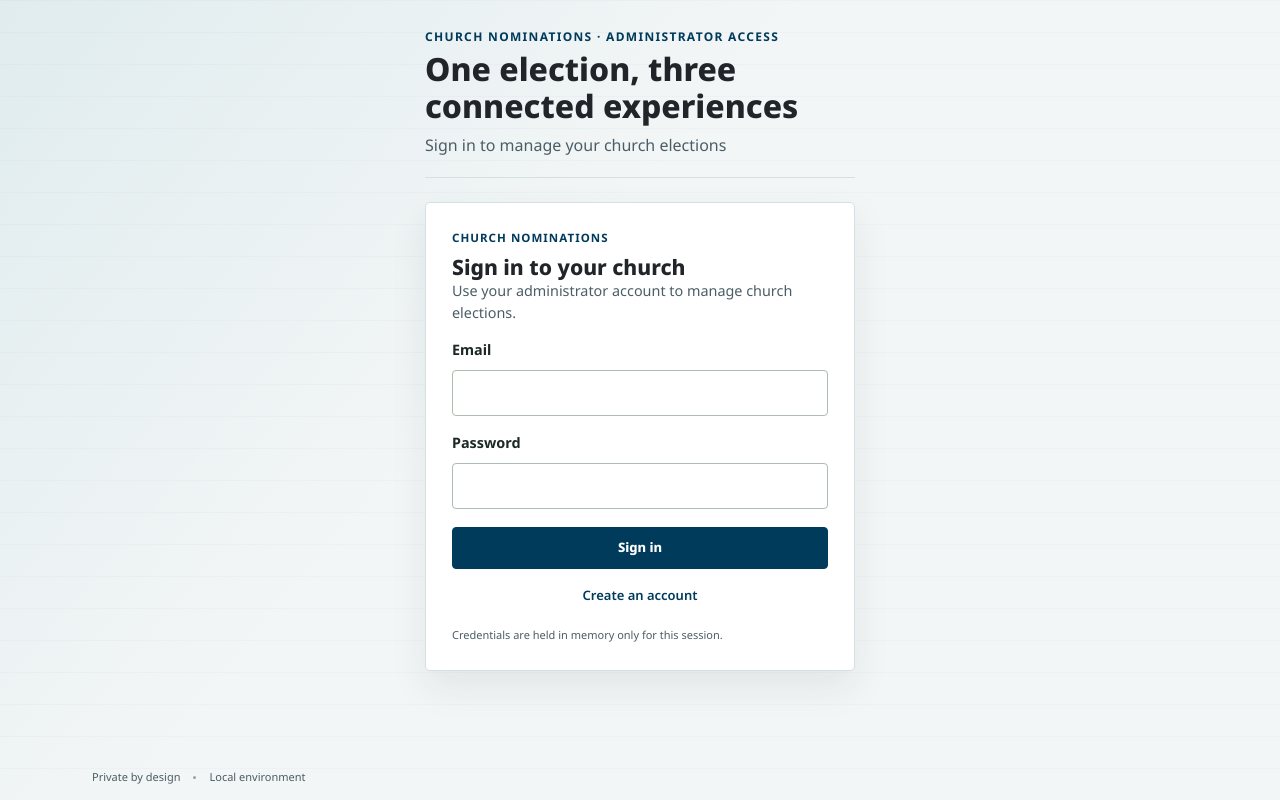
Test case: election administration › opens the selected position from its overview next action
The image size is (1280, 800).
Type "admin@example.com" into the field labelled "Email" at (640, 393), box 452,370 -> 828,416
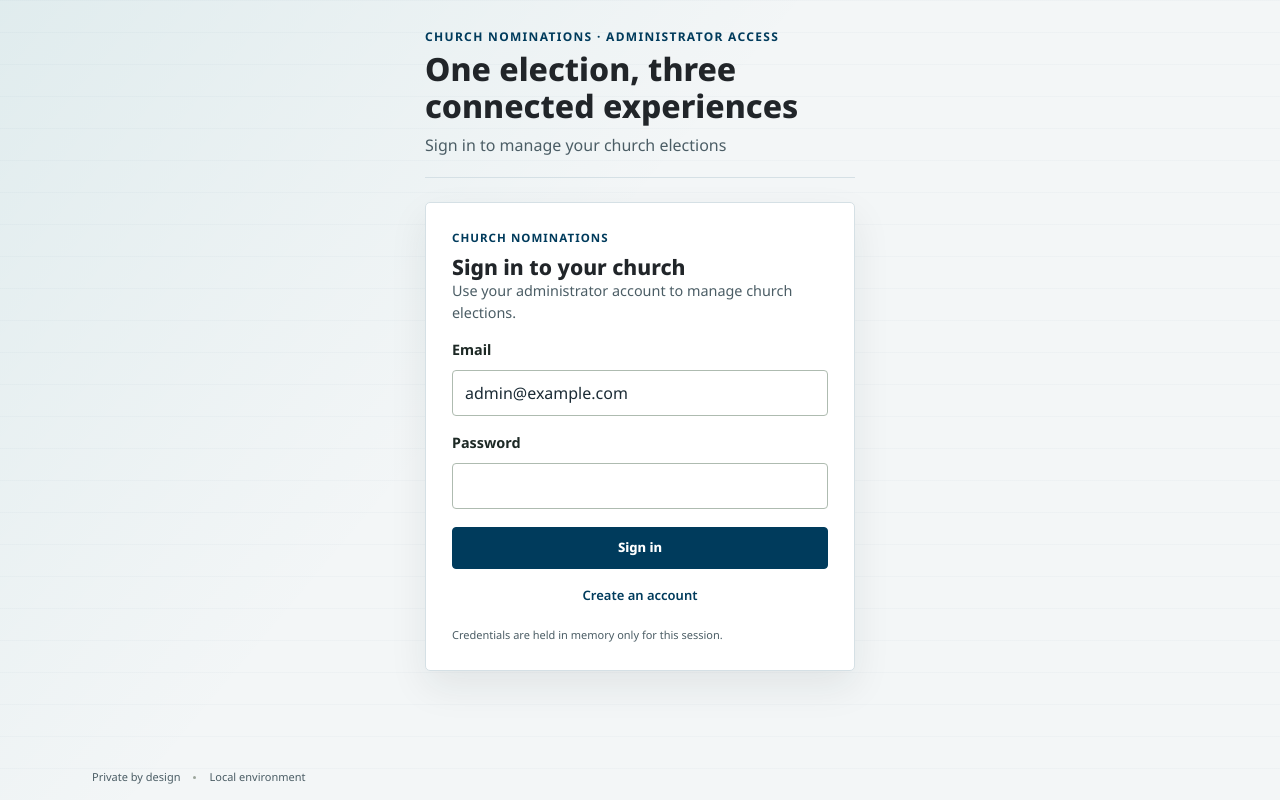
Type "secret" into the password field labelled "Password" at (640, 486), box 452,463 -> 828,509
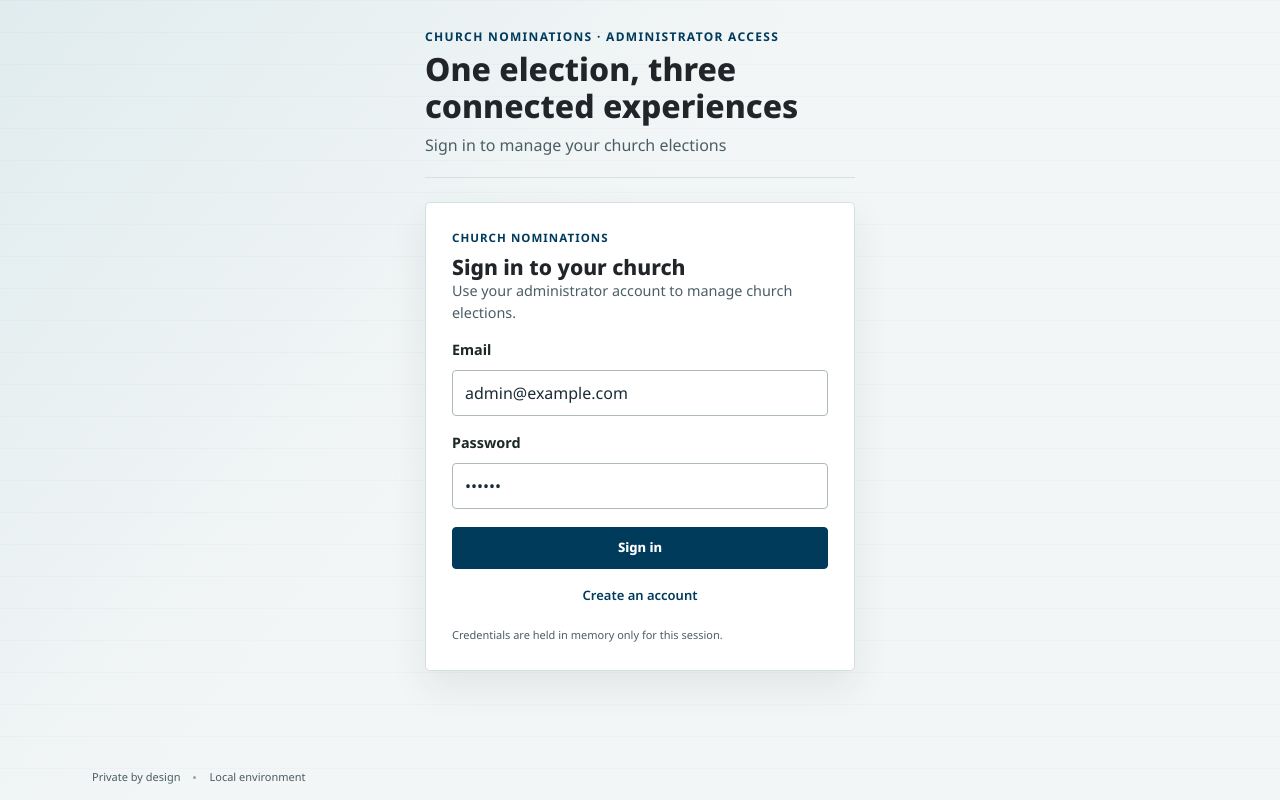
Click the button "Sign in" at (640, 548), box 452,527 -> 828,569
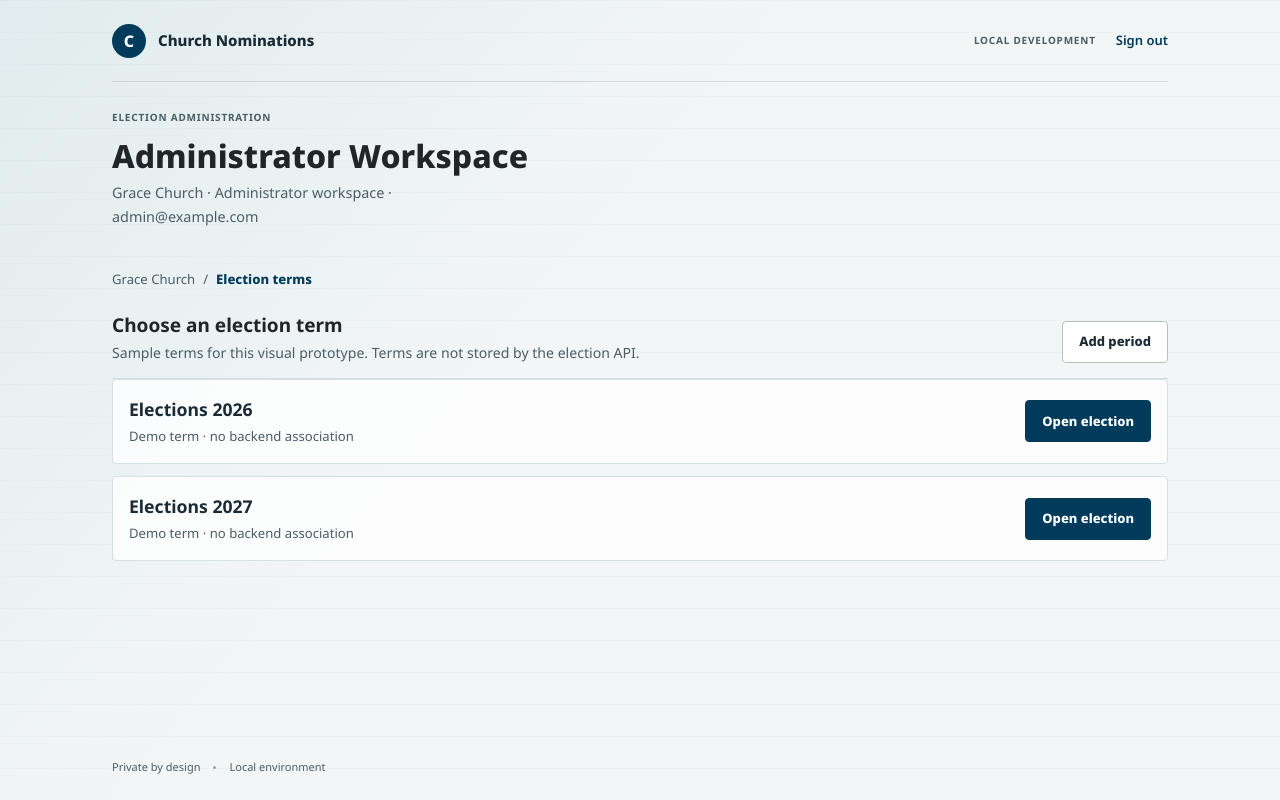
Click the button "Open election" in the row of "Elections 2026" at (1088, 422), box 1025,400 -> 1151,442
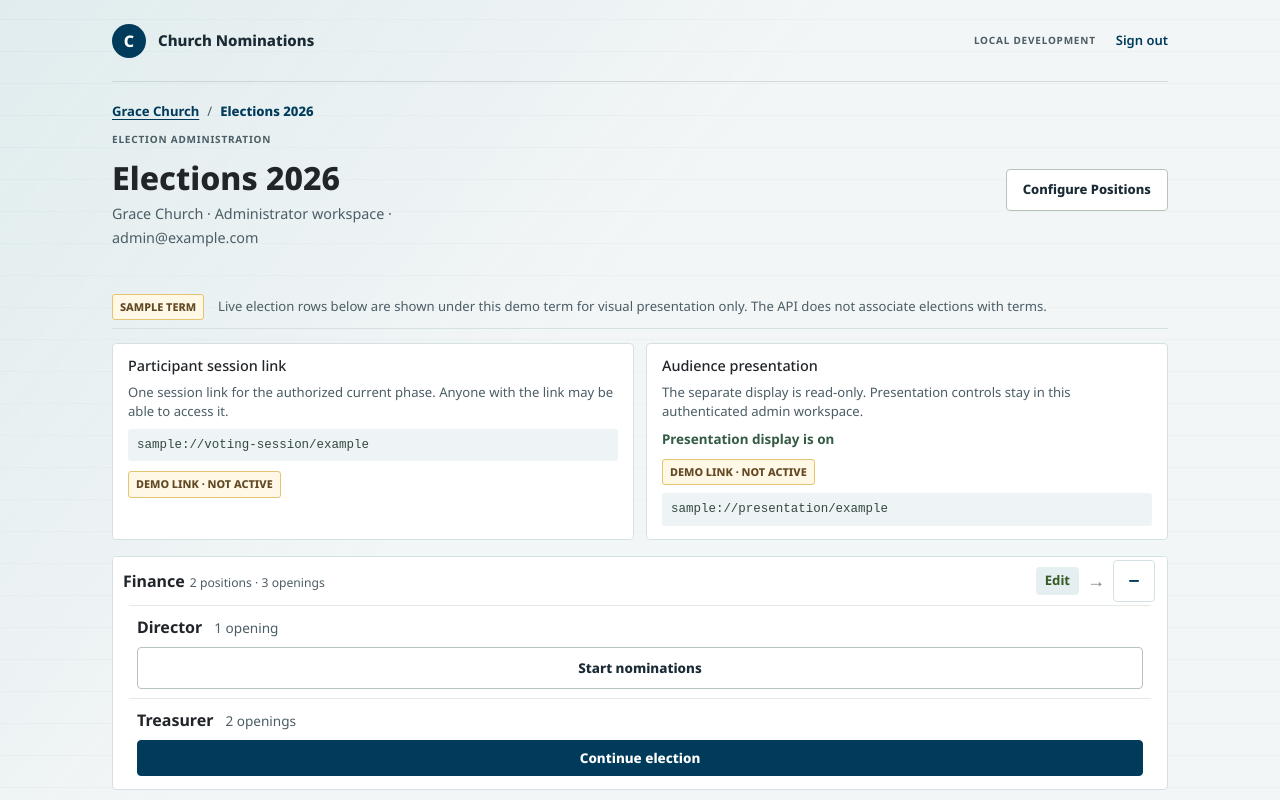
Click the button with aria-label "Continue election: Treasurer" at (640, 758), box 137,740 -> 1143,776
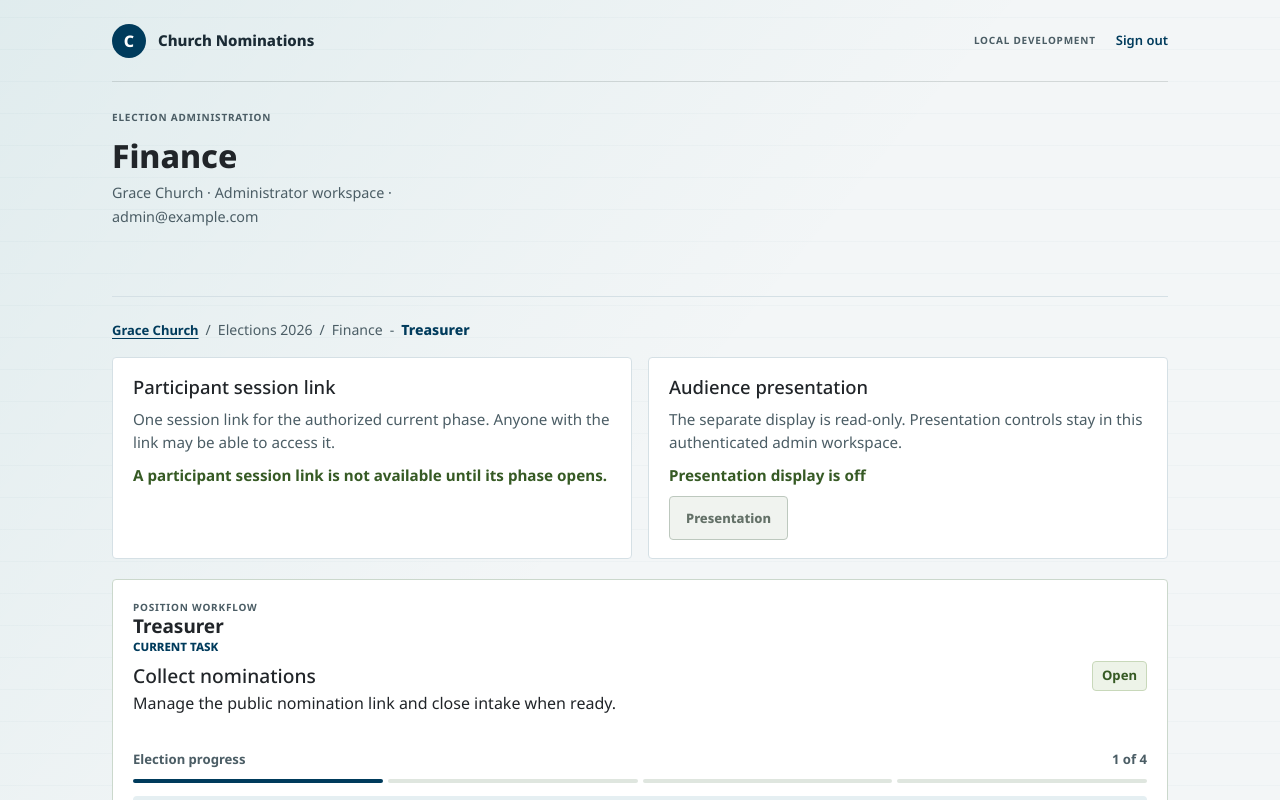
Expected: the navigation bar named "Election workflow breadcrumb" shows "Treasurer", 401,320 -> 470,339
Expected: the heading "Treasurer" is shown, 133,613 -> 224,639
